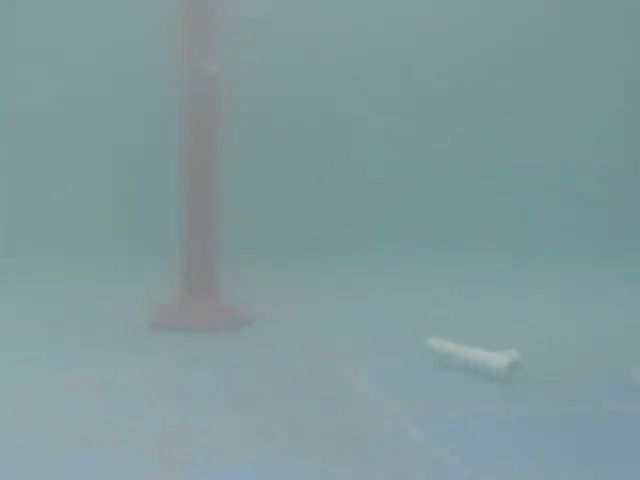flare: (143, 0, 257, 341)
